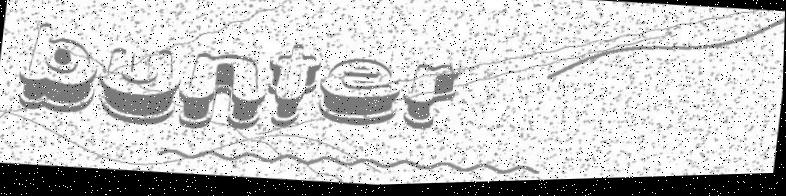b: (13, 17, 107, 116)
e: (316, 54, 407, 134)
n: (176, 49, 274, 138)
r: (401, 60, 462, 134)
t: (263, 39, 326, 130)
u: (96, 41, 184, 129)
